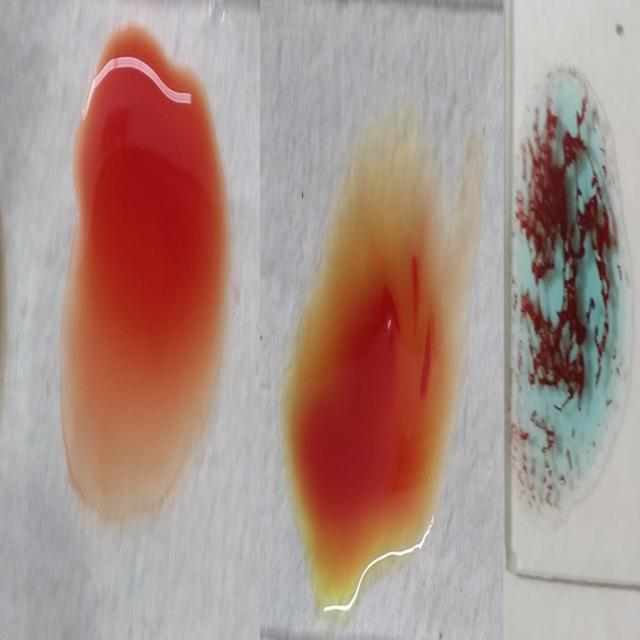A: (516, 52, 619, 524)
